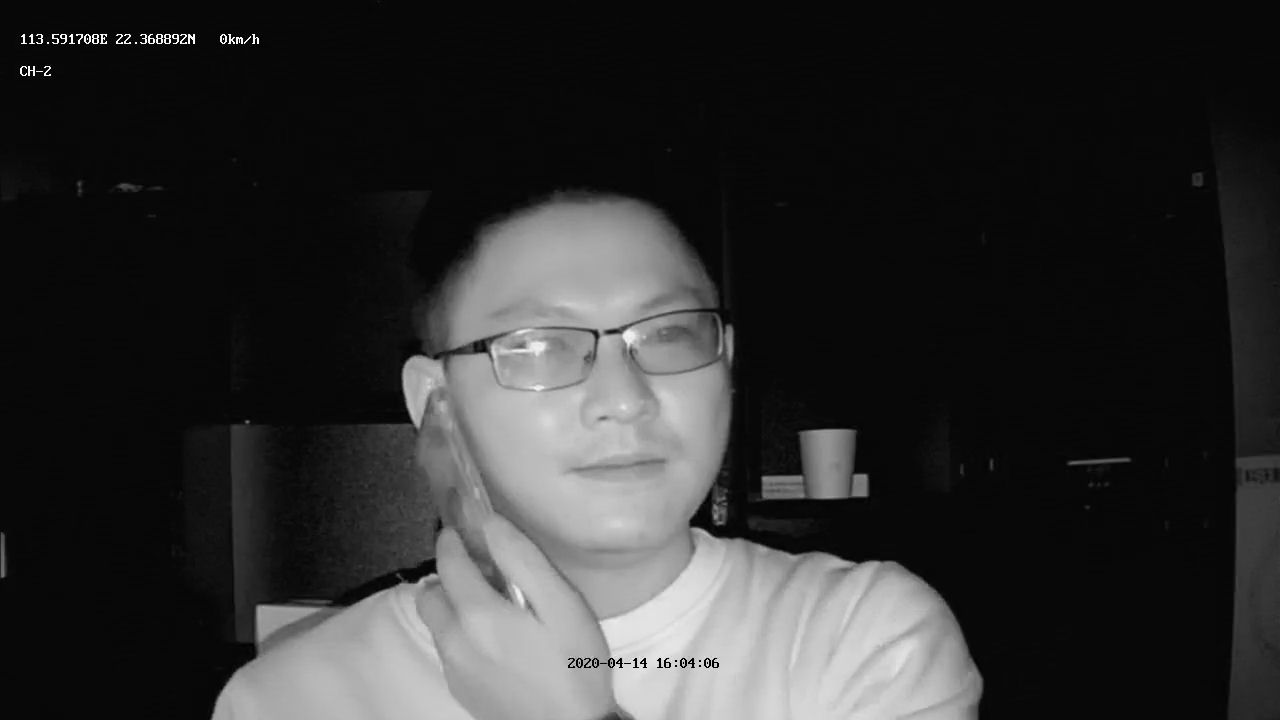call: (445, 227, 763, 545)
